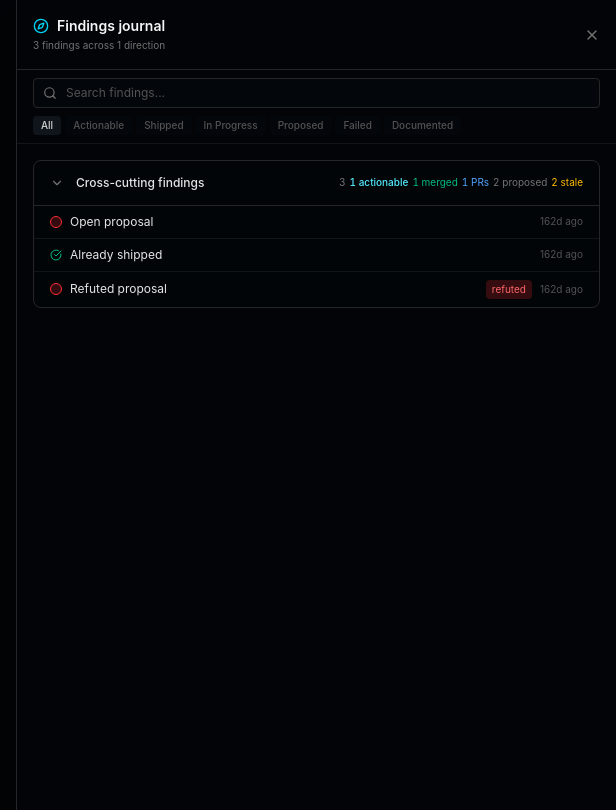
Scenario: ResearchBrowser actionable findings › Actionable filter shows only unimplemented, non-metadata, non-refuted findings
Click the button "Actionable": (99, 126) [65,116,132,135]
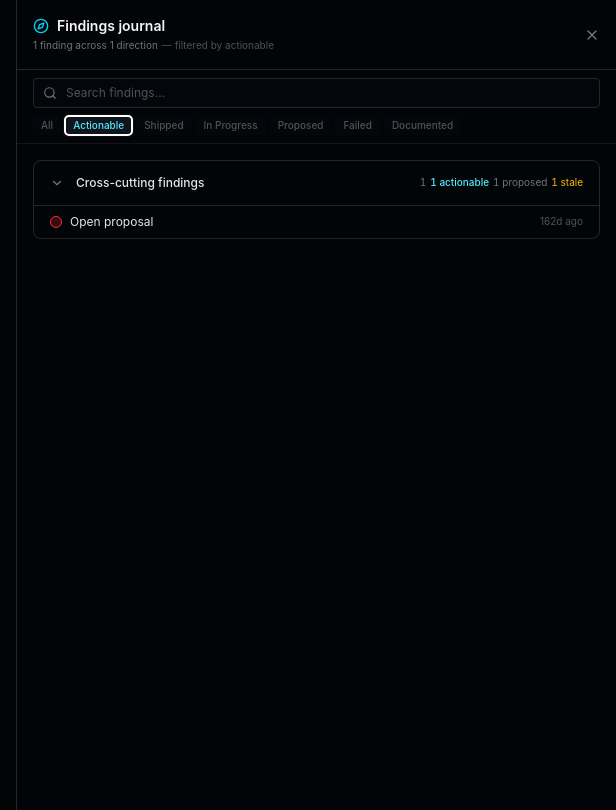
Expected: the text "Open proposal" is shown, [70,214,153,228]
Expected: the button "Already shipped" is gone
Expected: the button "Refuted proposal" is gone
